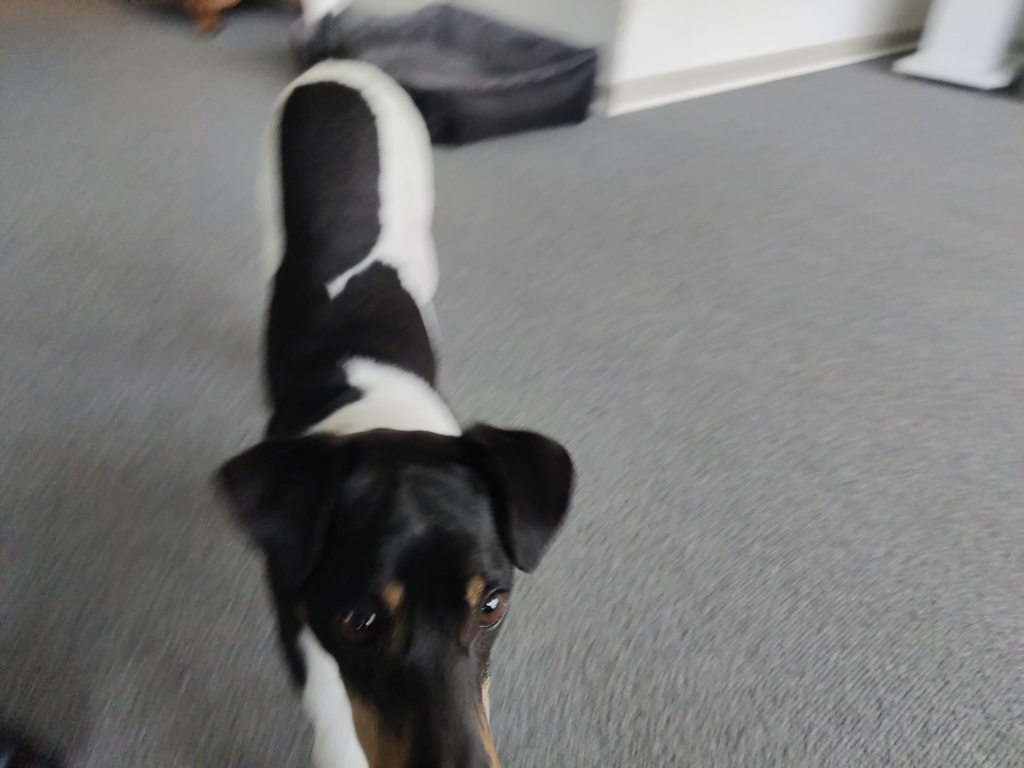Dog: (193, 0, 597, 768)
